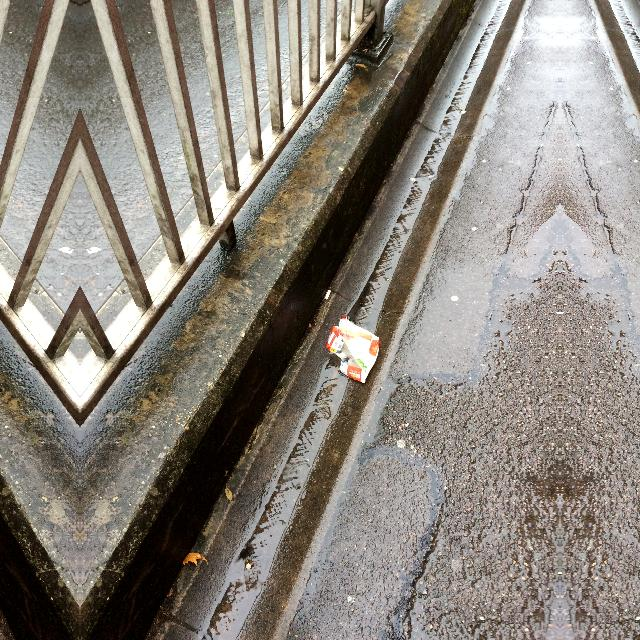Paper: (324, 312, 384, 386)
